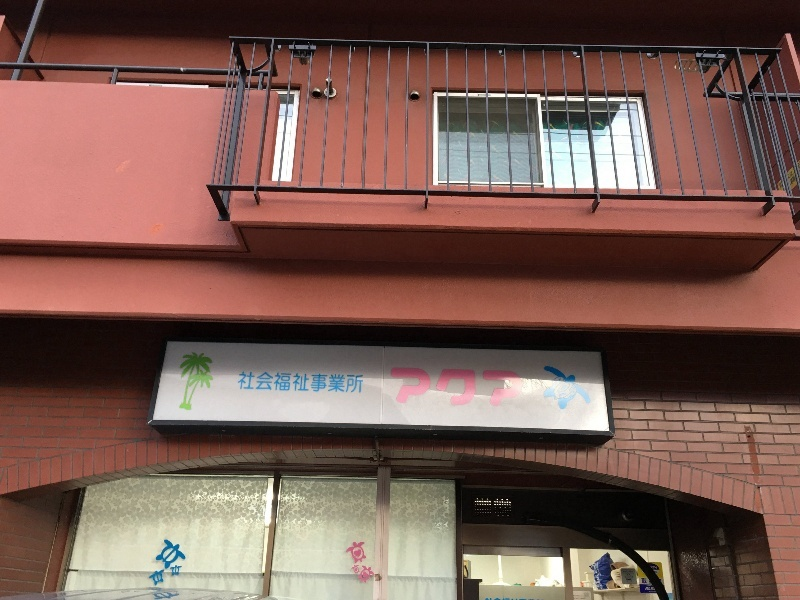text: (401, 367, 416, 411), (417, 367, 432, 411), (433, 367, 448, 411), (449, 367, 464, 411), (465, 367, 480, 411), (481, 367, 496, 411), (497, 367, 512, 411), (513, 367, 527, 411), (388, 367, 400, 411), (241, 368, 256, 395), (257, 368, 272, 395), (273, 368, 288, 395), (289, 368, 304, 395), (305, 368, 320, 395), (321, 368, 336, 395), (337, 368, 352, 395), (353, 368, 364, 395), (642, 579, 656, 585), (238, 368, 240, 395), (646, 587, 656, 591), (657, 579, 662, 585), (647, 585, 656, 588), (650, 566, 656, 570), (649, 591, 656, 594), (657, 566, 658, 570)
